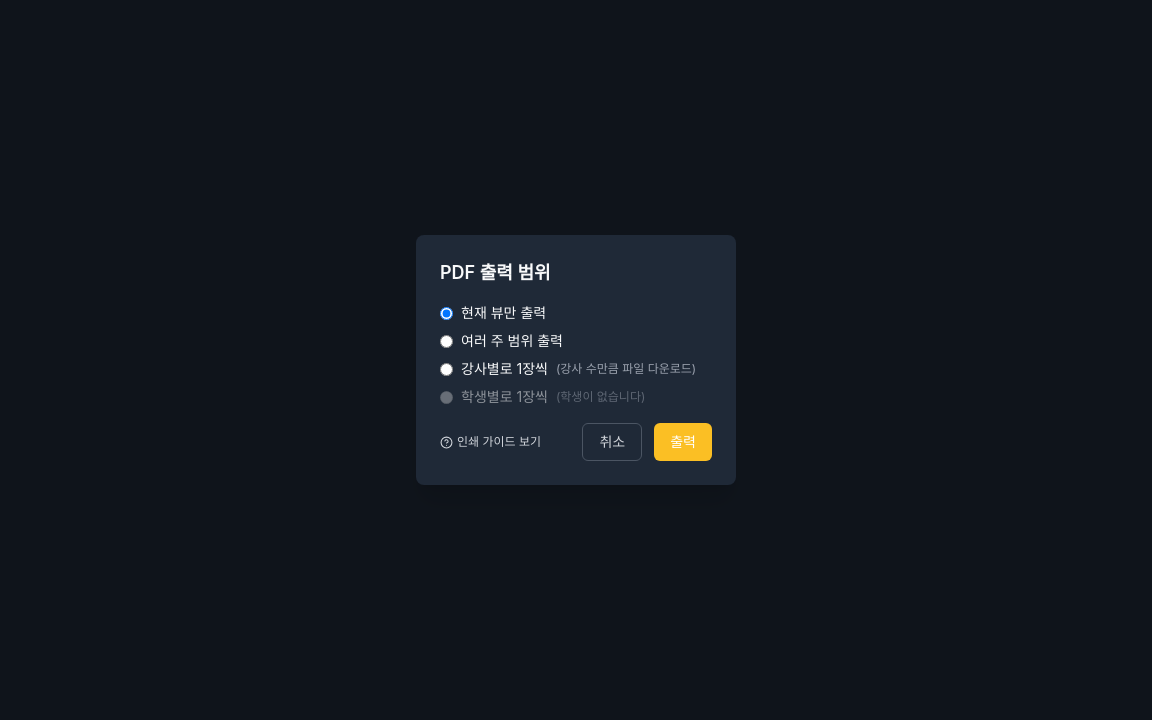
Test: PdfExportRangeModal — teacher chip selector › 0명 선택 시 출력 버튼 disabled + 에러 메시지
Click the radio button labelled "강사별로 1장씩": (446, 369) [440, 362, 453, 376]
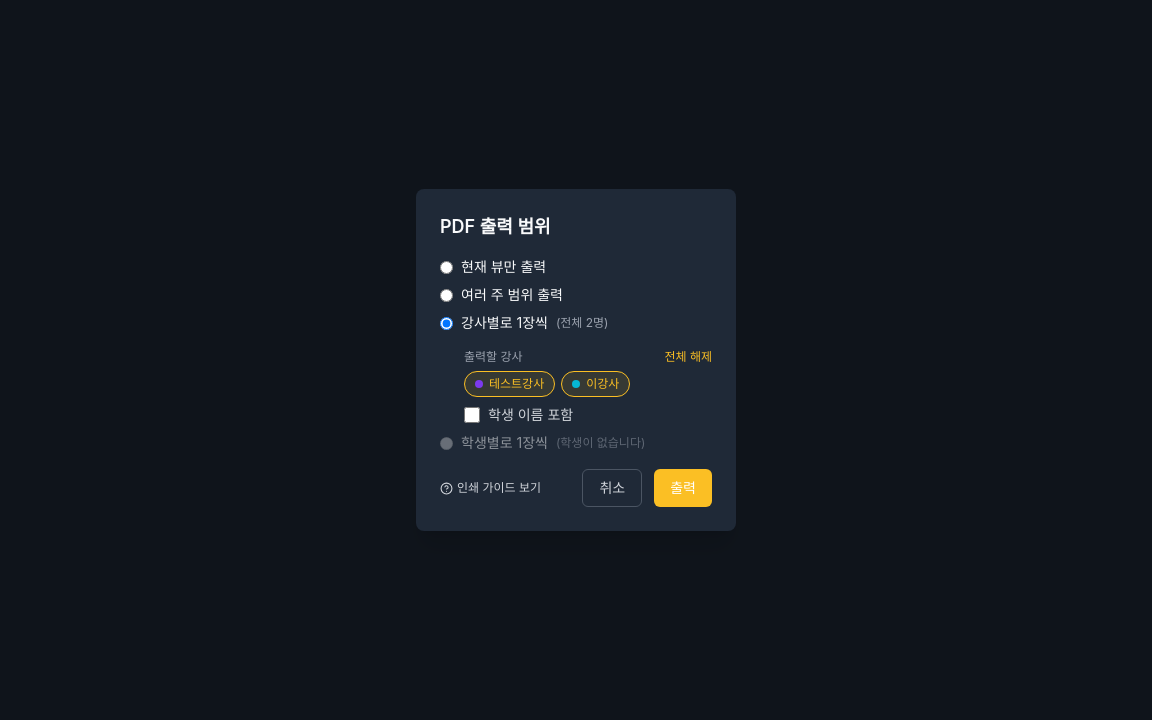
Click the button "전체 해제": (688, 357) [664, 349, 712, 365]
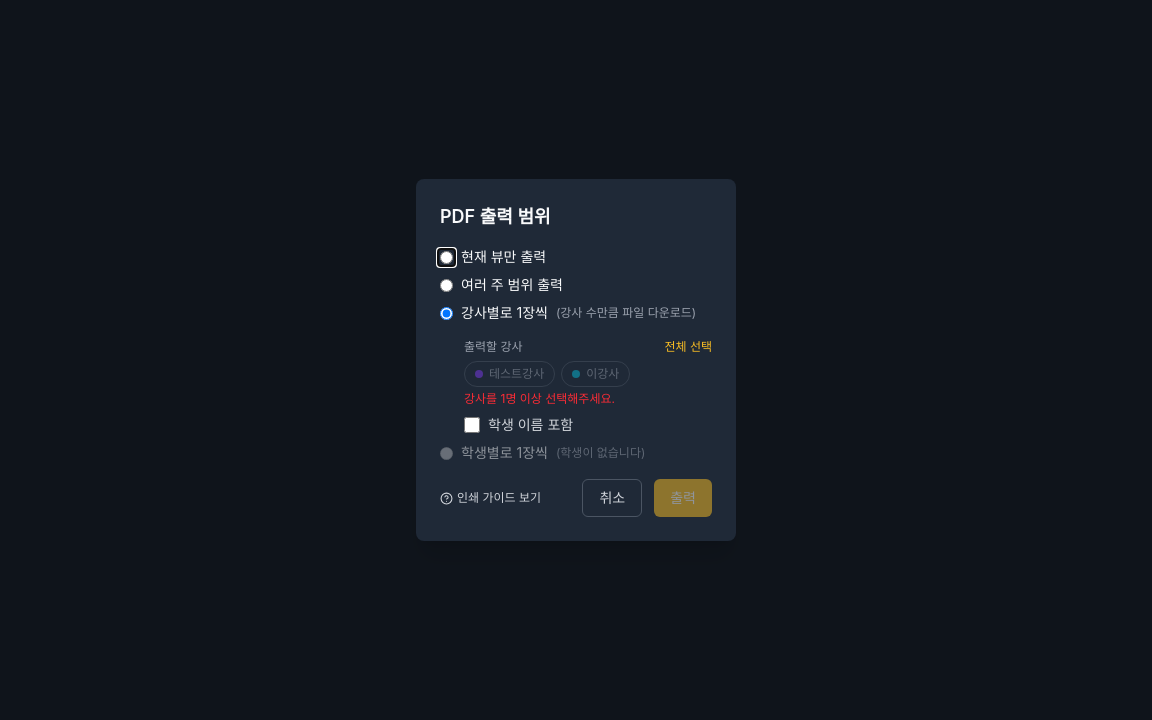
Check: the button "출력" is disabled, box [654, 479, 712, 517]
Check: the text "강사를 1명 이상 선택해주세요." is shown, box [464, 391, 615, 406]
